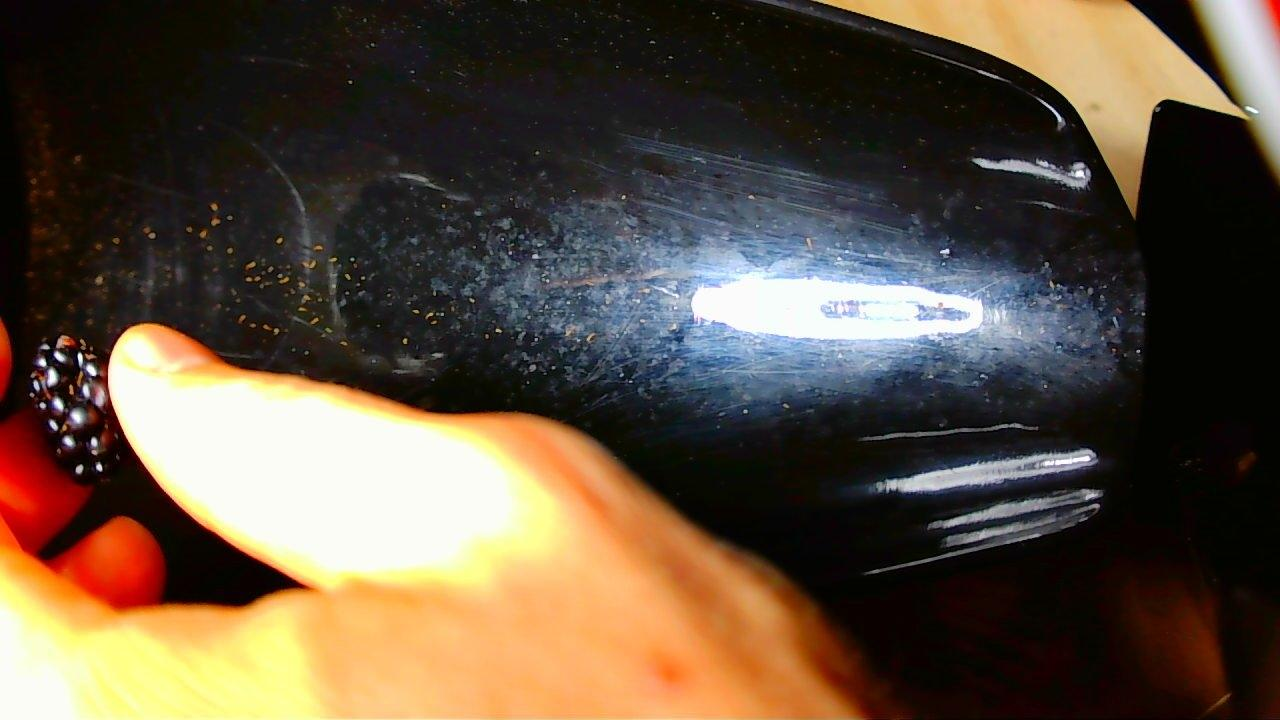berry: (24, 335, 125, 491)
